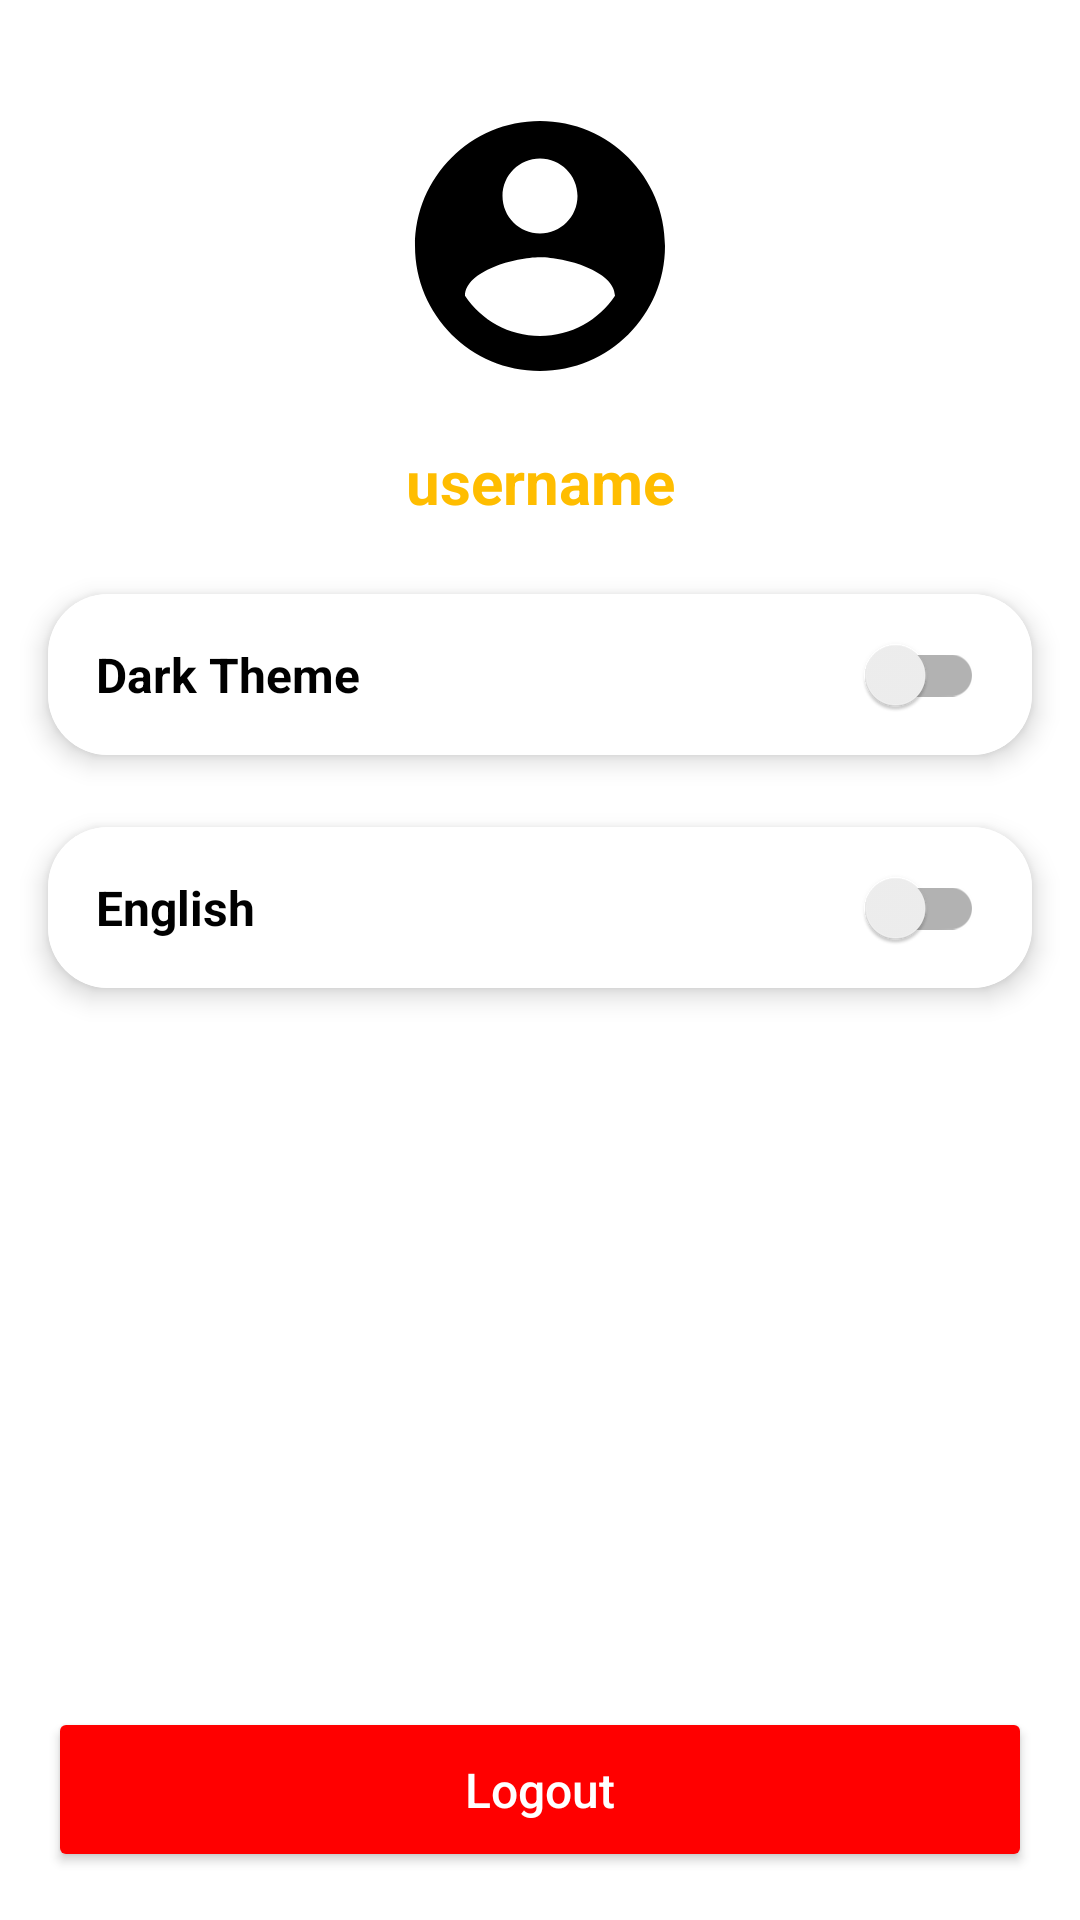

Where icons sit on this 1080×1920 app screen, as (x1, y1, x2, y2):
account circle: (415, 121, 665, 371)
